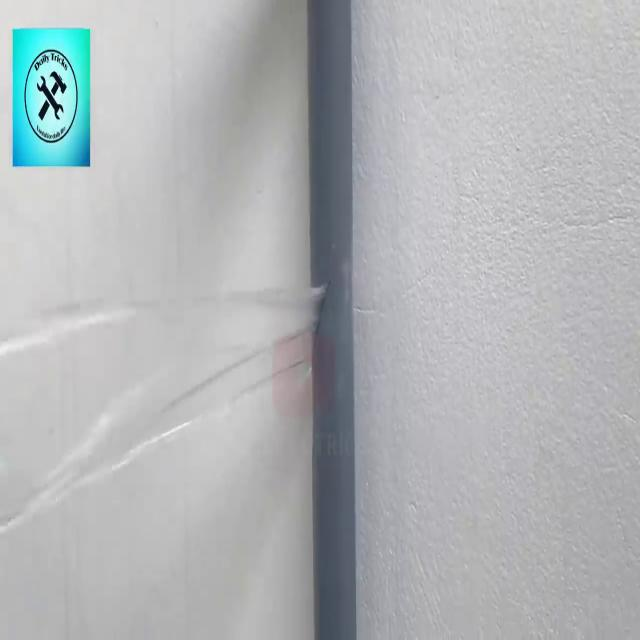leak: (0, 278, 330, 545)
